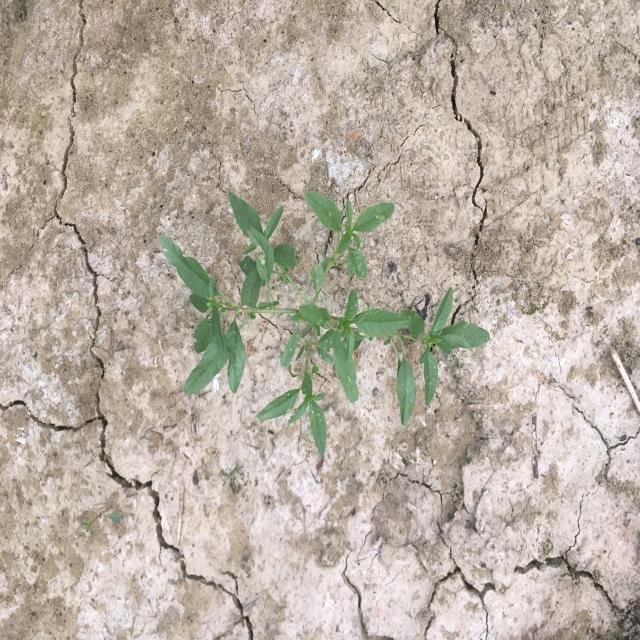Waterhemp: (158, 188, 490, 457)
